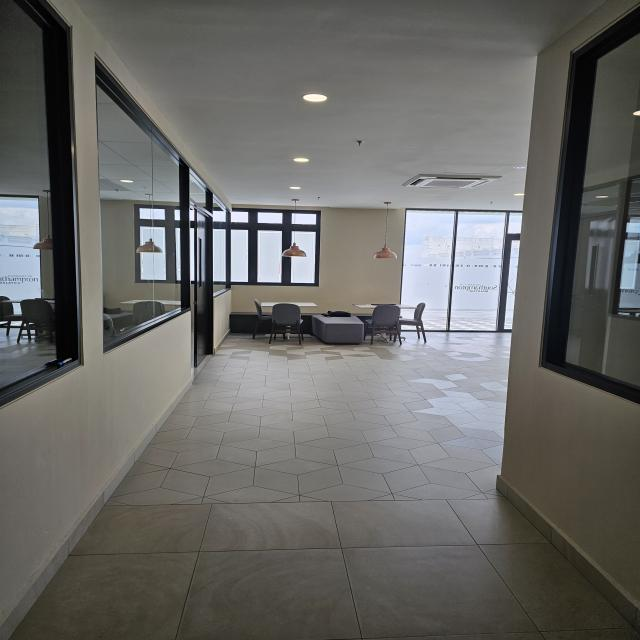footpath: (180, 349, 491, 640)
obstacle: (247, 299, 438, 342)
